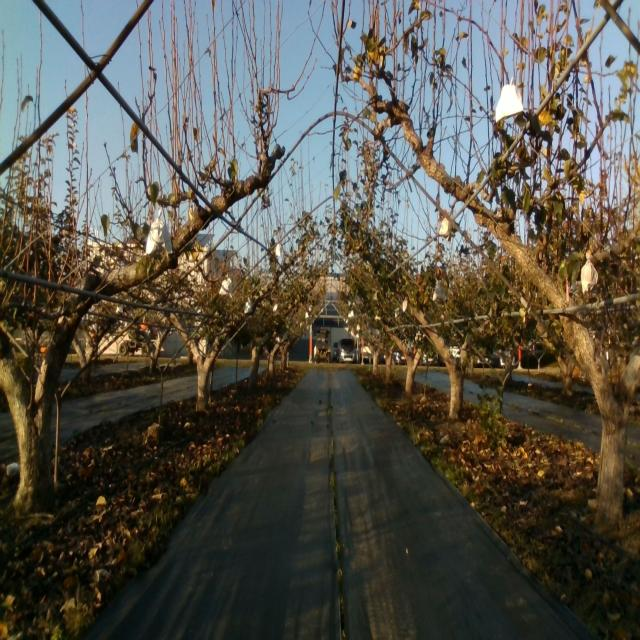pearbags: (144, 210, 174, 256), (495, 77, 523, 125), (581, 250, 599, 292), (218, 274, 232, 297), (433, 280, 446, 302), (438, 218, 451, 237)
